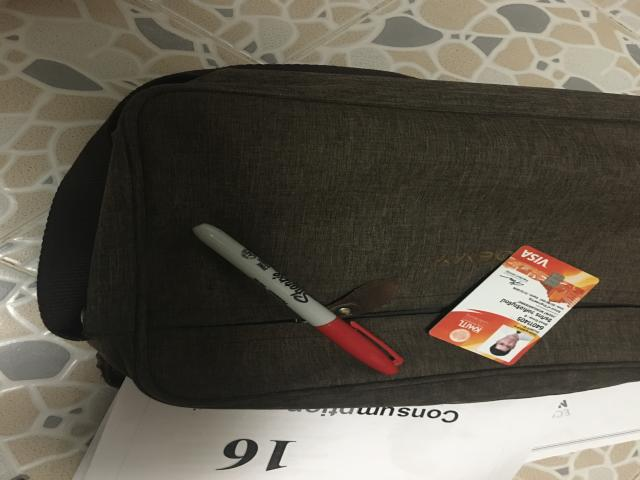Pen: (193, 223, 403, 375)
paper: (73, 379, 638, 480)
